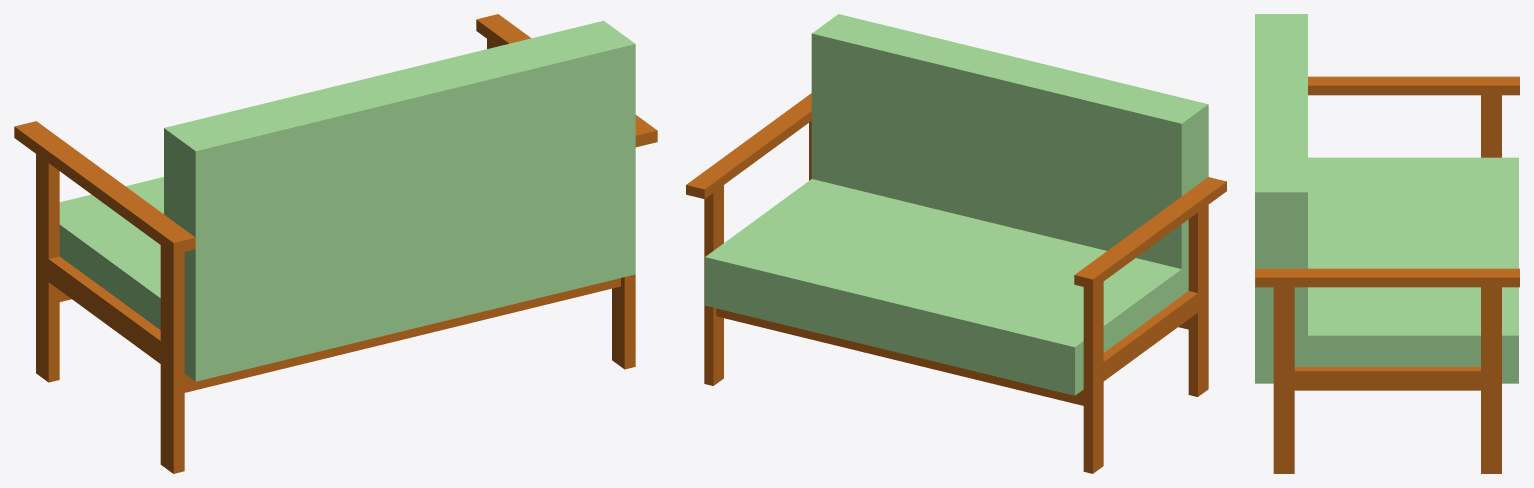
3 views of the same model, side by side, from view 1: azimuth 30°, elevation 25°; view 2: azimuth 150°, elevation 25°; view 3: azimuth 270°, elevation 25° (orthographic). The views are drawn at different scales.
Parts seen in each view (by area): view 1: back, seat, upright, arm, rear_rail, upright.001, arm.001; view 2: back, seat, upright, arm, arm.001, front_rail, upright.001; view 3: seat, back, upright.001, arm.001, arm, upright.
Boxes of the visible parts, bbox=[...] form: back: bbox=[164, 20, 635, 381]; seat: bbox=[59, 177, 635, 381]; upright: bbox=[36, 154, 184, 473]; arm: bbox=[14, 121, 195, 254]; rear_rail: bbox=[184, 278, 620, 392]; upright.001: bbox=[487, 39, 635, 369]; arm.001: bbox=[476, 14, 657, 147]; back: bbox=[811, 14, 1208, 295]; seat: bbox=[705, 179, 1181, 395]; upright: bbox=[1083, 205, 1208, 473]; arm: bbox=[1074, 177, 1226, 288]; arm.001: bbox=[686, 93, 811, 198]; front_rail: bbox=[716, 308, 1083, 405]; upright.001: bbox=[704, 121, 811, 385]; seat: bbox=[1255, 157, 1518, 383]; back: bbox=[1255, 14, 1307, 383]; upright.001: bbox=[1273, 287, 1501, 473]; arm.001: bbox=[1255, 268, 1519, 287]; arm: bbox=[1308, 76, 1519, 95]; upright: bbox=[1481, 95, 1501, 157].
Size of the model in its own units: 1.8 by 1.19 by 1.03.
